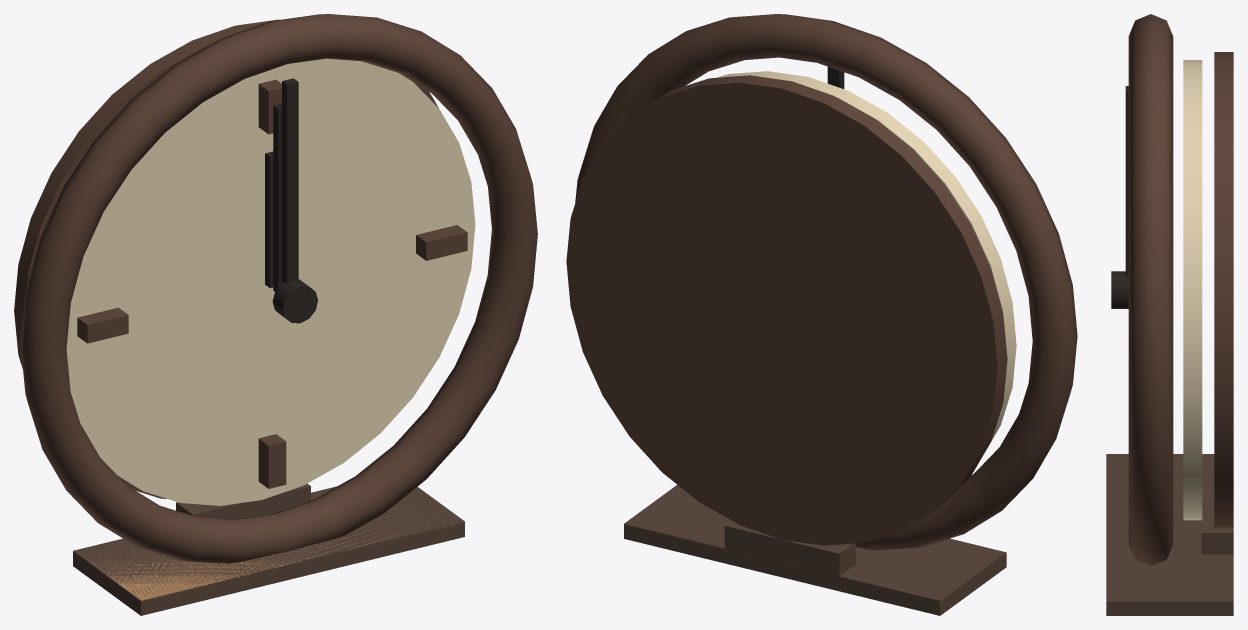
Rendered from variant-analog-round.glb.
3 renders of one model, left to right at view 1: azimuth 30°, elevation 25°; view 2: azimuth 150°, elevation 25°; view 3: azimuth 270°, elevation 25°, orthographic. The views are drawn at different scales.
Visible parts, largest first — view 1: clock-face, clock-round-rim, clock-base, clock-back, clock-base-trim, clock-second-hand, clock-display-support, clock-minute-hand, clock-center-cap, clock-marker-3, clock-marker-2, clock-marker-4 (+2 smaller); view 2: clock-back, clock-round-rim, clock-base, clock-face, clock-display-support; view 3: clock-round-rim, clock-base, clock-back, clock-face, clock-display-support, clock-second-hand, clock-center-cap.
Boxes of the visible parts, box(x1,y1,x2,y2) form: clock-face: box(66, 58, 475, 505); clock-round-rim: box(20, 14, 537, 563); clock-base: box(73, 486, 464, 615); clock-back: box(14, 19, 438, 498); clock-base-trim: box(73, 508, 464, 600); clock-second-hand: box(282, 78, 298, 283); clock-display-support: box(176, 483, 310, 519); clock-minute-hand: box(273, 103, 281, 291); clock-center-cap: box(272, 279, 317, 323); clock-marker-3: box(258, 434, 286, 488); clock-marker-2: box(416, 225, 467, 260); clock-marker-4: box(77, 307, 128, 343); clock-back: box(566, 75, 1007, 545); clock-round-rim: box(575, 14, 1077, 550); clock-base: box(624, 484, 1006, 615); clock-face: box(717, 71, 1016, 441); clock-display-support: box(724, 520, 855, 582); clock-round-rim: box(1128, 14, 1173, 565); clock-base: box(1106, 454, 1233, 615); clock-back: box(1214, 52, 1233, 528); clock-face: box(1183, 60, 1202, 520); clock-display-support: box(1201, 479, 1233, 554); clock-second-hand: box(1125, 86, 1128, 276); clock-center-cap: box(1111, 271, 1128, 308).
Bounding box in the file's own units: 0.348 × 0.349 × 0.08.
